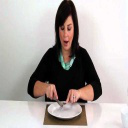fork: (47, 93, 80, 108)
